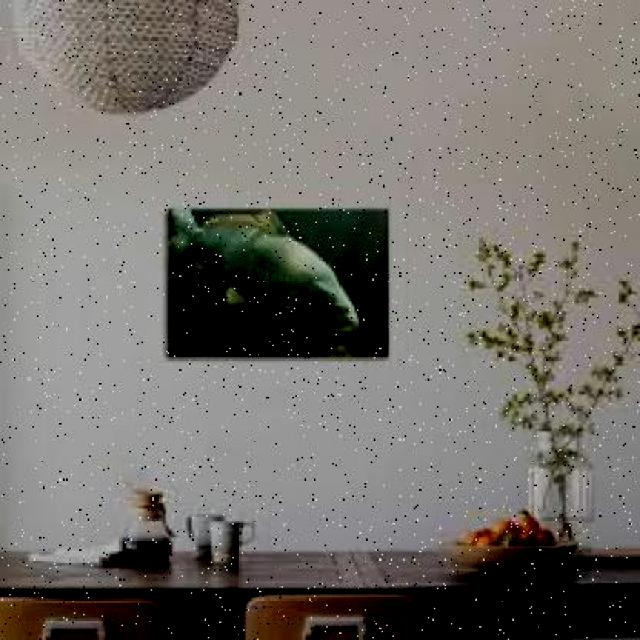ikan-mas: (173, 208, 378, 342)
